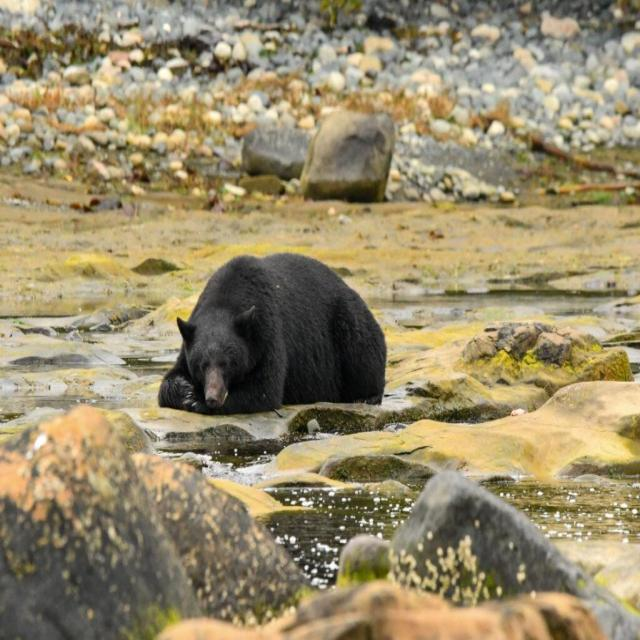Bear: (156, 254, 389, 417)
